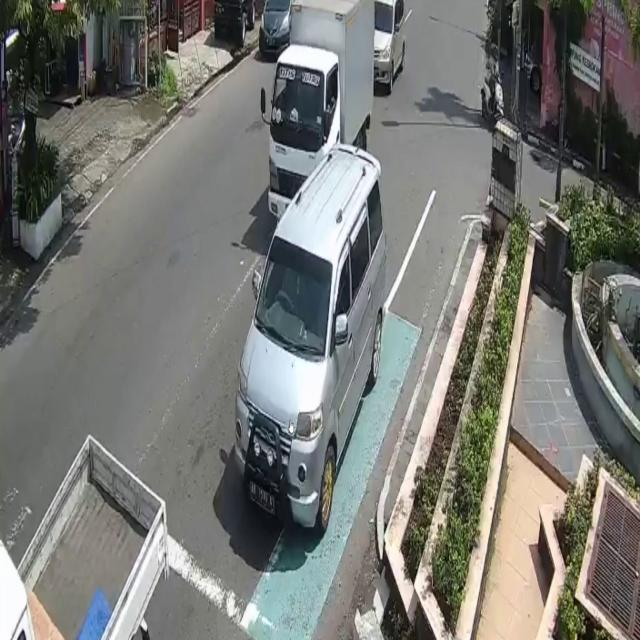motorcycle: (235, 142, 386, 528), (374, 0, 405, 91), (257, 0, 290, 59), (482, 74, 502, 129)
truck: (269, 0, 374, 218)
